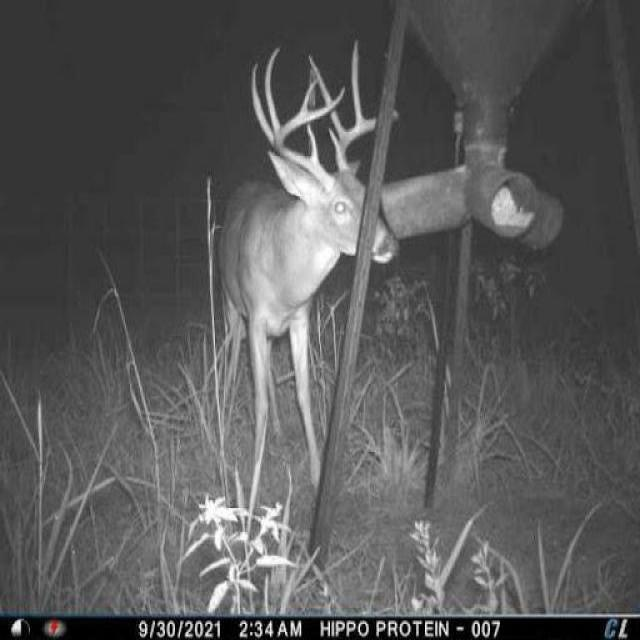deer: (206, 33, 406, 530)
